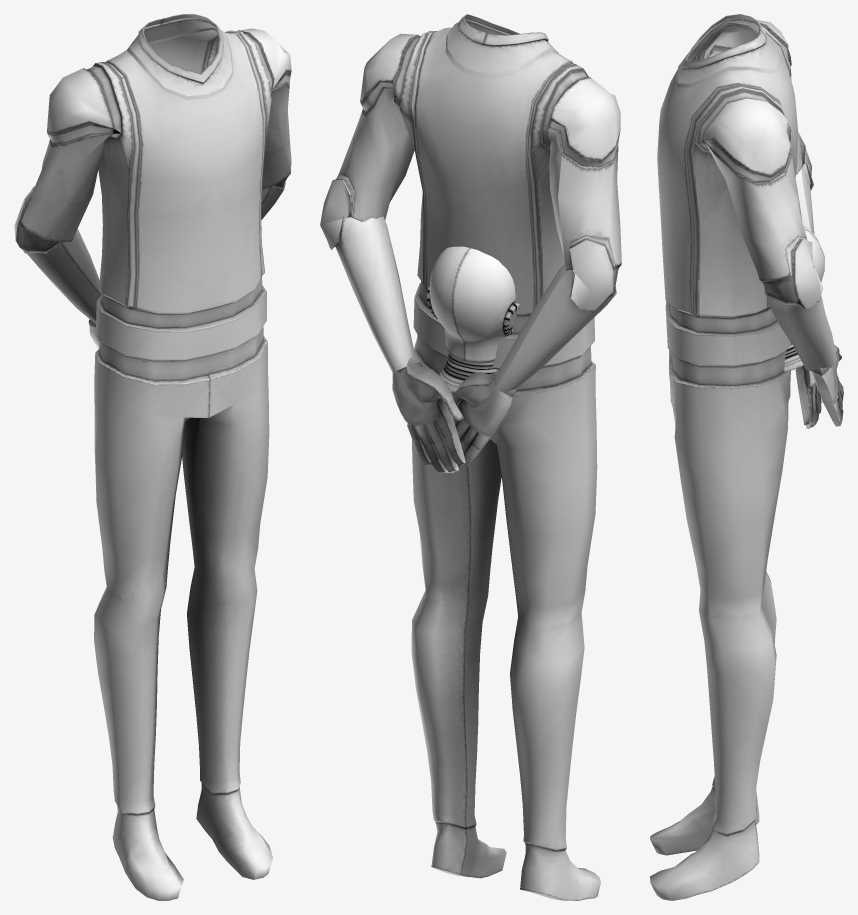
File: PodXSeries02.obj
3 views of the same model, side by side, from view 1: azimuth 30°, elevation 25°; view 2: azimuth 150°, elevation 25°; view 3: azimuth 270°, elevation 25° (orthographic). The views are drawn at different scales.
Parts seen in each view (by area): view 1: Body_Untitled.002, BodyGlow_Untitled.006; view 2: Body_Untitled.002, Head_Untitled, BodyGlow_Untitled.006, HeadGlow_Untitled.009; view 3: Body_Untitled.002, BodyGlow_Untitled.006, Head_Untitled.
Part boxes in pixels (x1,y1,x2,y2): Body_Untitled.002: (14, 14, 291, 900); BodyGlow_Untitled.006: (17, 32, 288, 380); Body_Untitled.002: (320, 14, 621, 900); Head_Untitled: (429, 246, 515, 394); BodyGlow_Untitled.006: (334, 32, 620, 390); HeadGlow_Untitled.009: (427, 285, 519, 383); Body_Untitled.002: (650, 14, 843, 900); BodyGlow_Untitled.006: (669, 27, 813, 385); Head_Untitled: (784, 225, 824, 372).
Bounding box in the file's own units: 0.5424 × 1.59 × 0.3317.
Materials: 2 (2 with a texture image).
